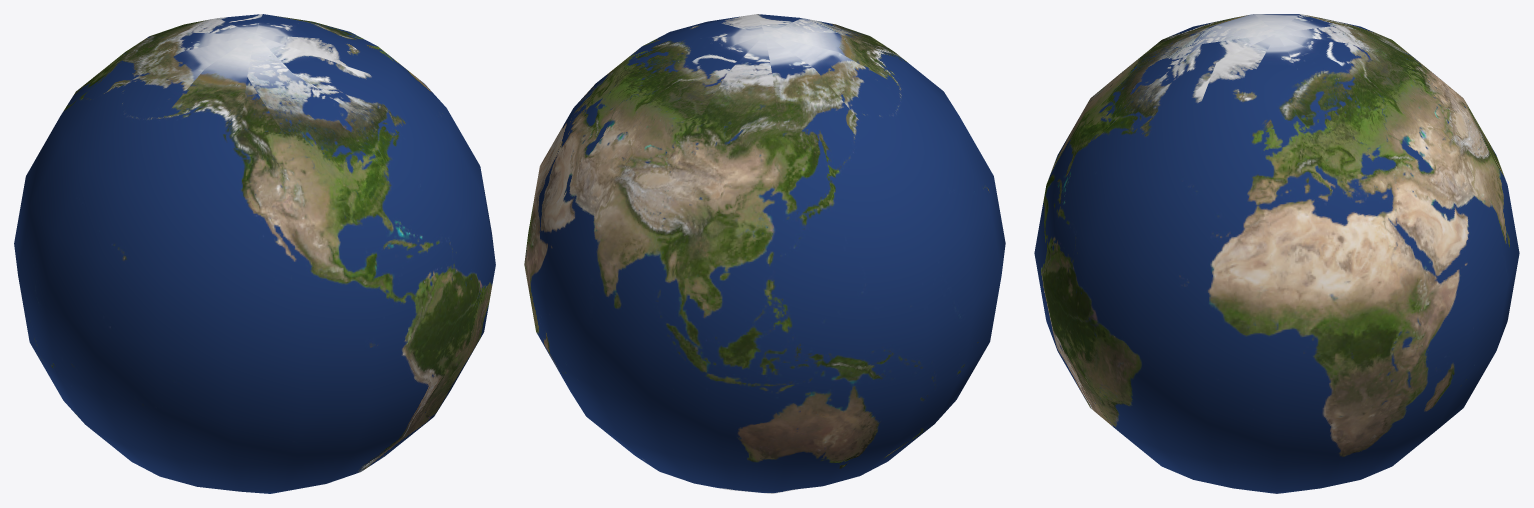
The model's file is Earth_ring.glb.
3 views of the same model, side by side, from view 1: azimuth 30°, elevation 25°; view 2: azimuth 150°, elevation 25°; view 3: azimuth 270°, elevation 25° (orthographic).
Parts seen in each view (by area): view 1: Earth; view 2: Earth; view 3: Earth.
Part boxes in pixels (x1,y1,x2,y2): Earth: (14, 14, 495, 493); Earth: (524, 14, 1005, 493); Earth: (1034, 14, 1519, 493).
Size of what is drawn, in the model's own units: 0.9088 by 0.9088 by 0.9088.
1 material, 1 textured.
